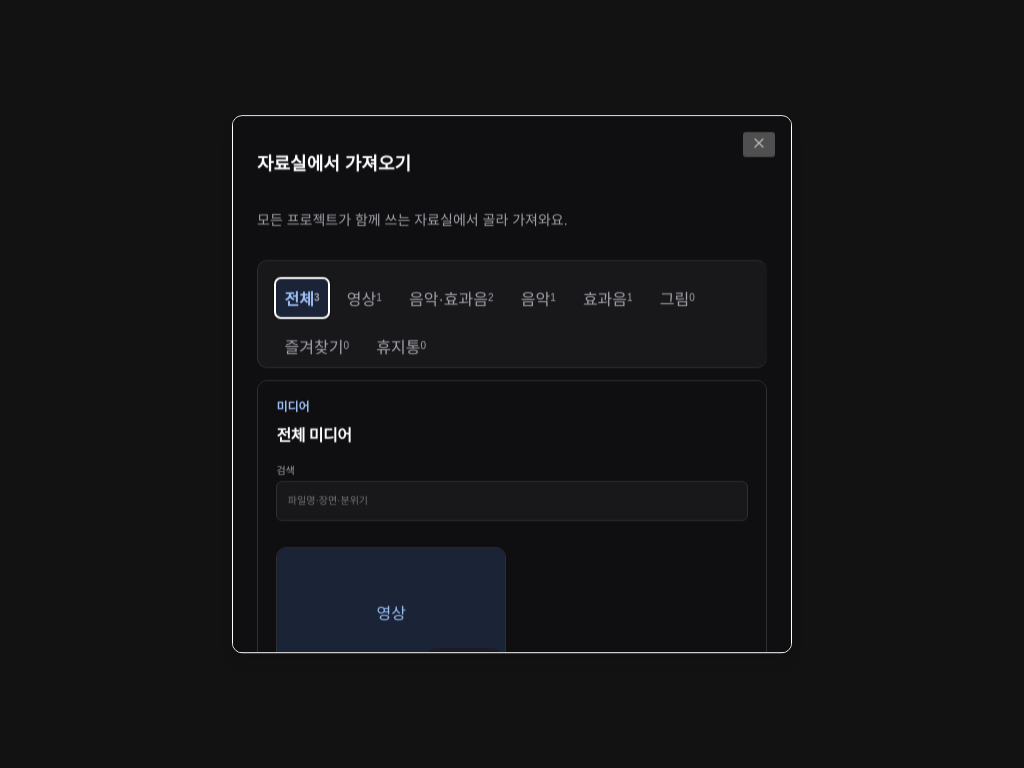
LibraryPickerDialog › `음악·효과음` 탭을 눌러도 목록이 비지 않는다
The width and height of the screenshot is (1024, 768).
Click the button "음악·효과음 2" at (451, 298), box [398,277,504,319]
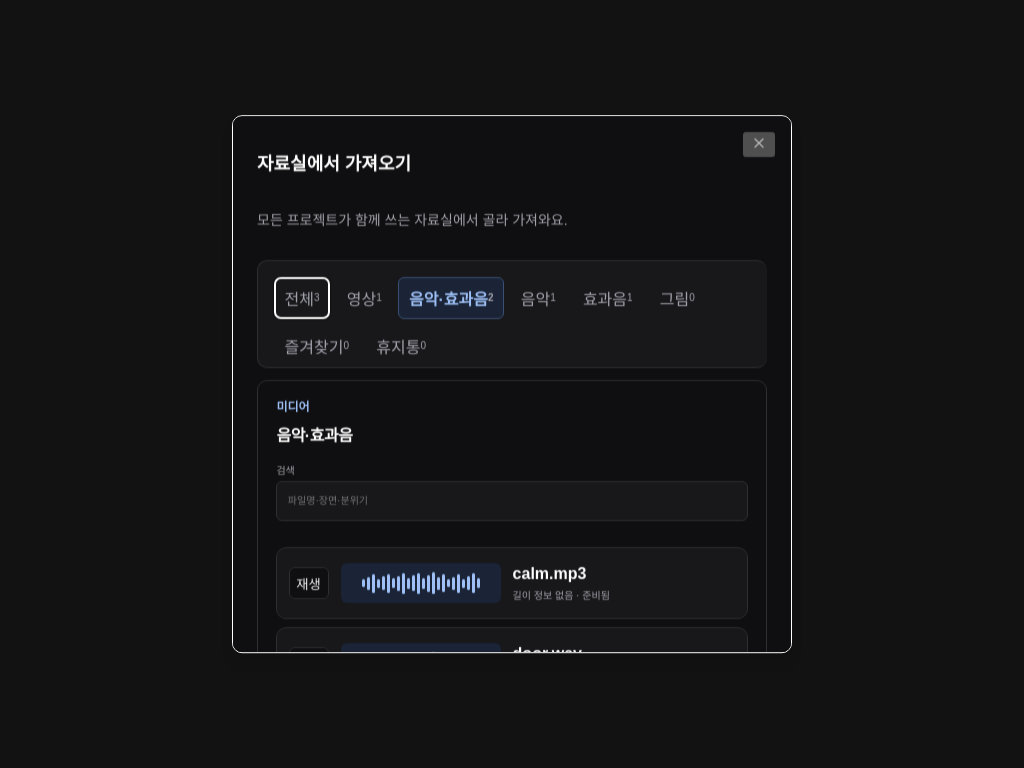
Expected: the text "walk.mp4" is not shown
Expected: the text "calm.mp3" is shown, [513,565,586,582]
